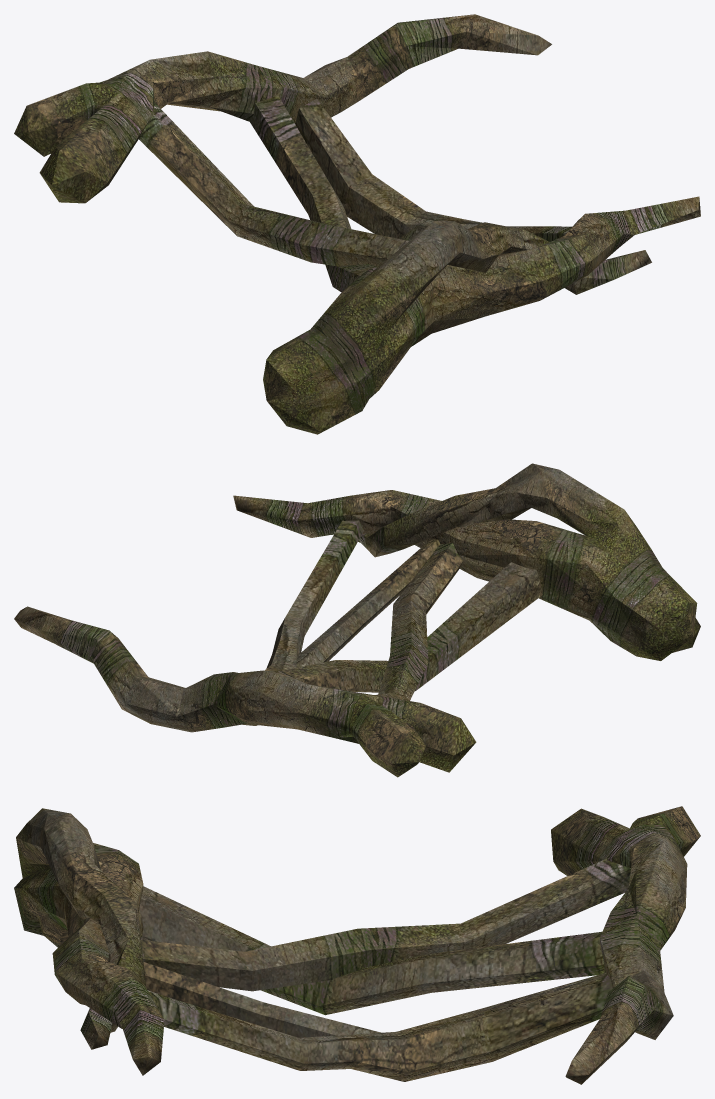
Rendered from bg_lut_lutomb_br01c_sm_esy.FBX.
3 renders of one model, top to bottom at view 1: azimuth 30°, elevation 25°; view 2: azimuth 150°, elevation 25°; view 3: azimuth 270°, elevation 25°, orthographic. The views are drawn at different scales.
Visible parts, largest first — view 1: bg_lut_lutomb_br01c_sm_esy; view 2: bg_lut_lutomb_br01c_sm_esy; view 3: bg_lut_lutomb_br01c_sm_esy.
Boxes of the visible parts, box(x1,y1,x2,y2) form: bg_lut_lutomb_br01c_sm_esy: box(14, 14, 700, 434); bg_lut_lutomb_br01c_sm_esy: box(14, 463, 700, 777); bg_lut_lutomb_br01c_sm_esy: box(14, 806, 700, 1084).
Bounding box in the file's own units: 443 × 148 × 470.
